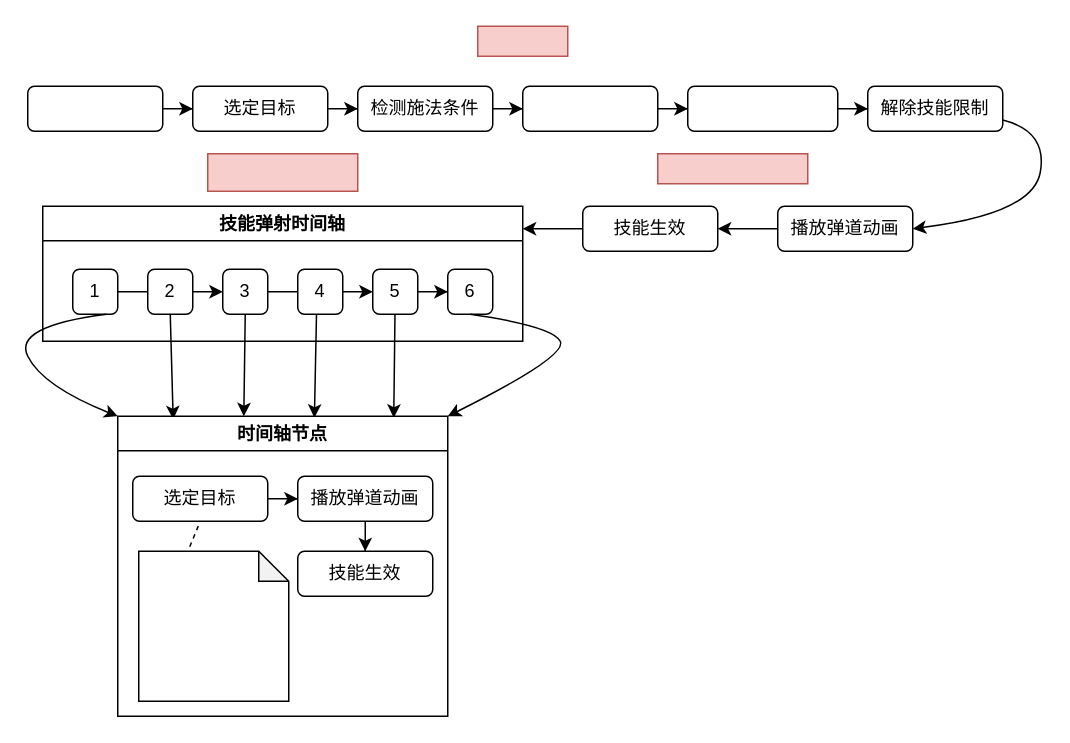
Image size: 1070x743. Some labels were removed from this diagram. Here are the shapes that lost their labels. From the top down, the centre of each, then its label:
At (522,40): "施法阶段".
At (94,108): "技能初始化".
At (589,108): "扣除消耗".
At (762,108): "播放施法前摇动画".
At (282,171): "技能弹射阶段".
At (732,168): "第一次命中阶段".
At (213,625): "剔除命中2次目标，以本地实体为参考，选取最近距离的一个目标".
